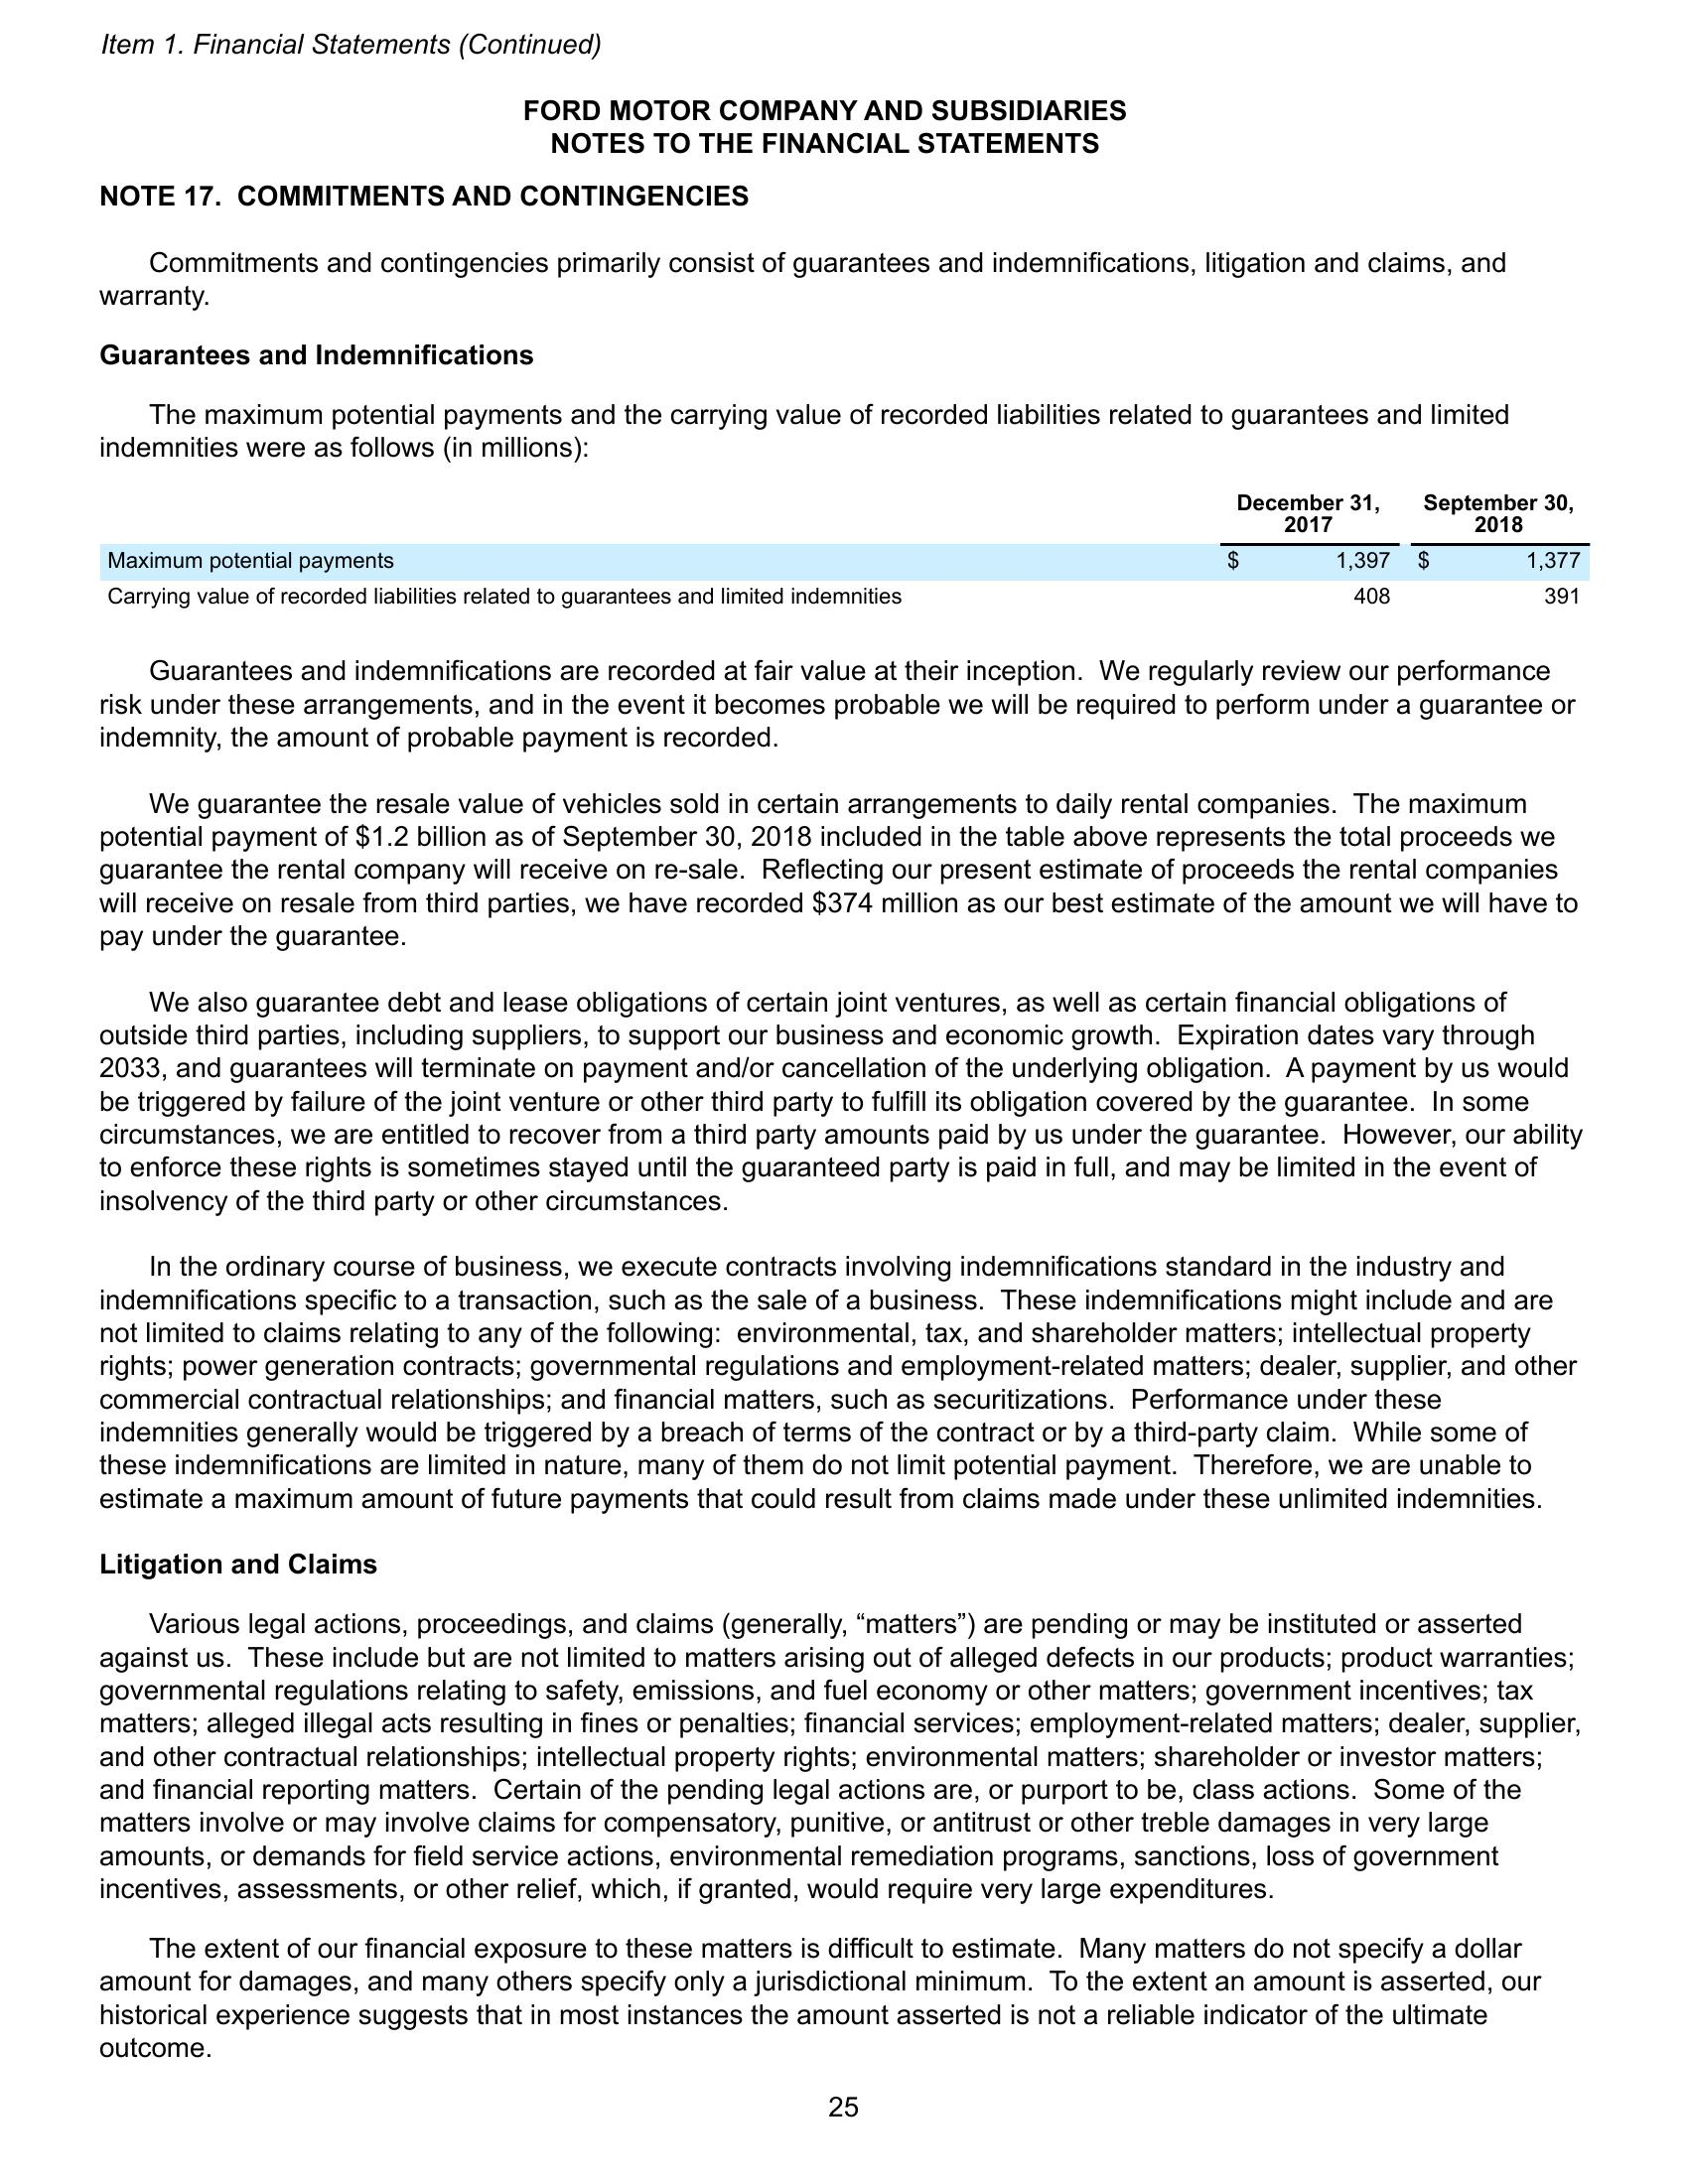table: (96, 475, 1594, 617)
